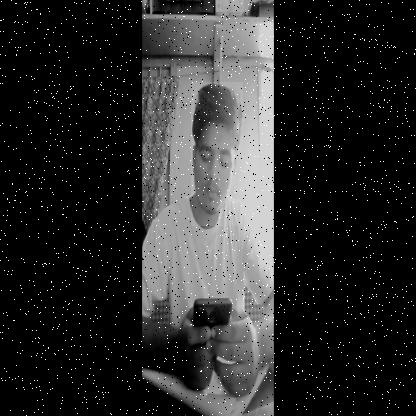Normal: (191, 82, 243, 226)
